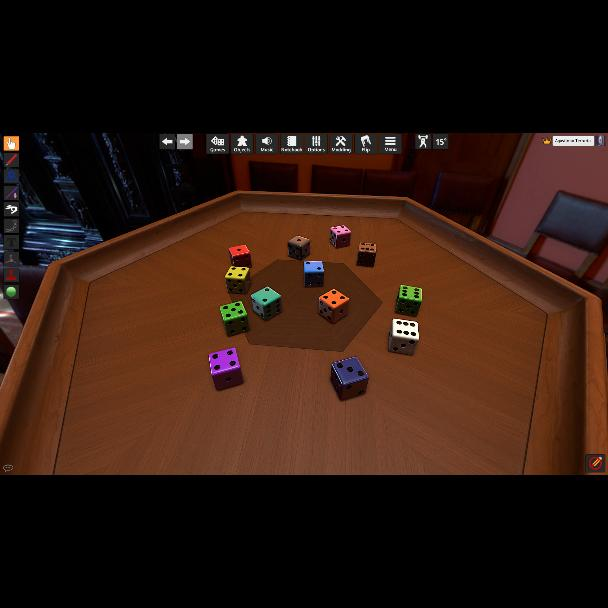d6: (330, 356, 368, 401), (208, 348, 242, 390), (389, 318, 420, 356), (220, 301, 250, 337), (318, 290, 348, 324), (252, 287, 282, 321), (394, 284, 421, 318), (224, 266, 252, 296), (228, 246, 252, 270), (356, 242, 378, 268), (287, 236, 309, 262), (330, 225, 352, 249), (304, 261, 322, 287)
